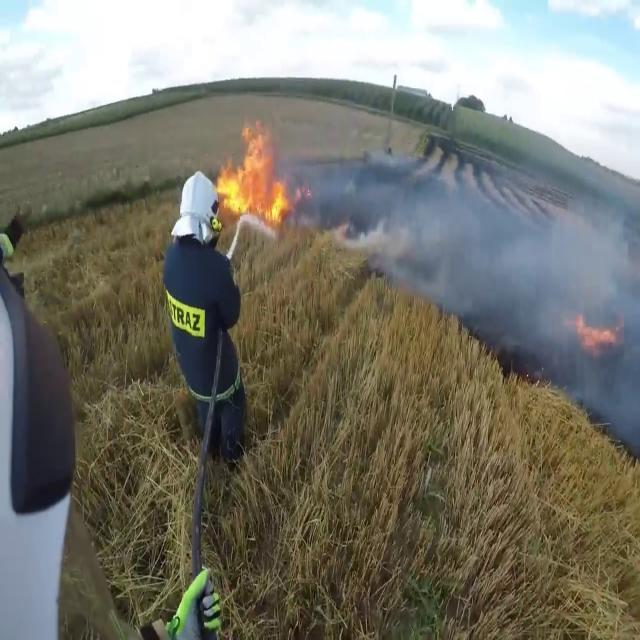Fire: (212, 114, 290, 230), (572, 304, 622, 354)
Smoke: (358, 152, 640, 432)
